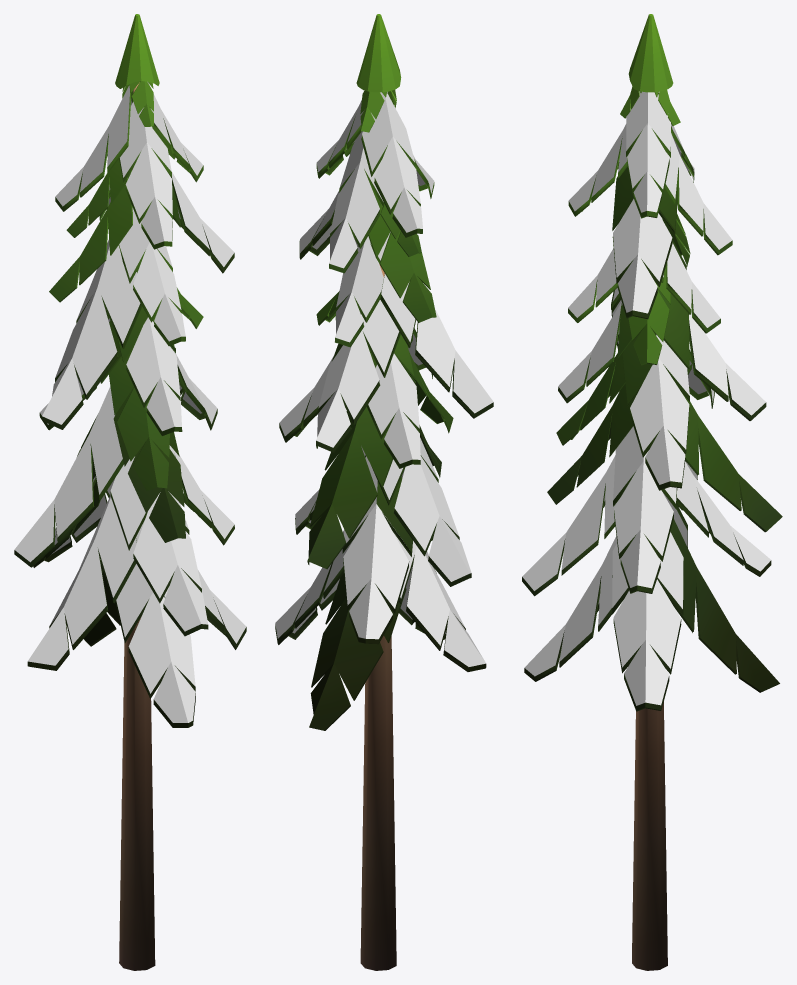
File: SNOW_HIGH_TREE.glb
3 views of the same model, side by side, from view 1: azimuth 30°, elevation 25°; view 2: azimuth 150°, elevation 25°; view 3: azimuth 270°, elevation 25° (orthographic).
Parts seen in each view (by area): view 1: Cylinder.006; view 2: Cylinder.006; view 3: Cylinder.006.
Part boxes in pixels (left/top/right/bottom): Cylinder.006: left=14, top=14, right=246, bottom=970; Cylinder.006: left=275, top=14, right=493, bottom=970; Cylinder.006: left=522, top=14, right=782, bottom=970.
Size of the model in its own units: 0.3755 by 1.58 by 0.3945.
Materials: 2 (1 with a texture image).
